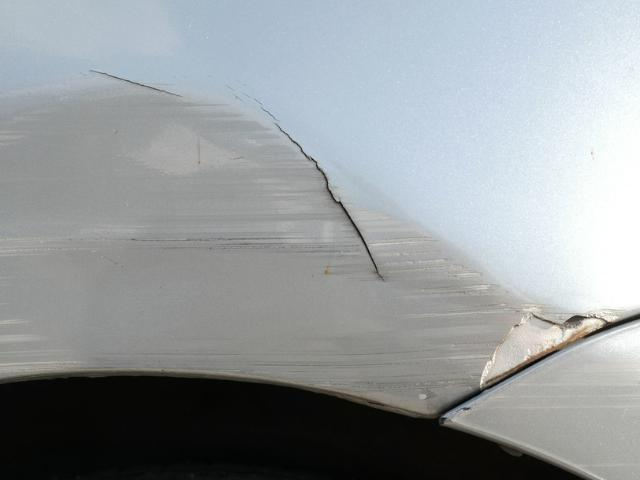Fender: (87, 39, 622, 415)
